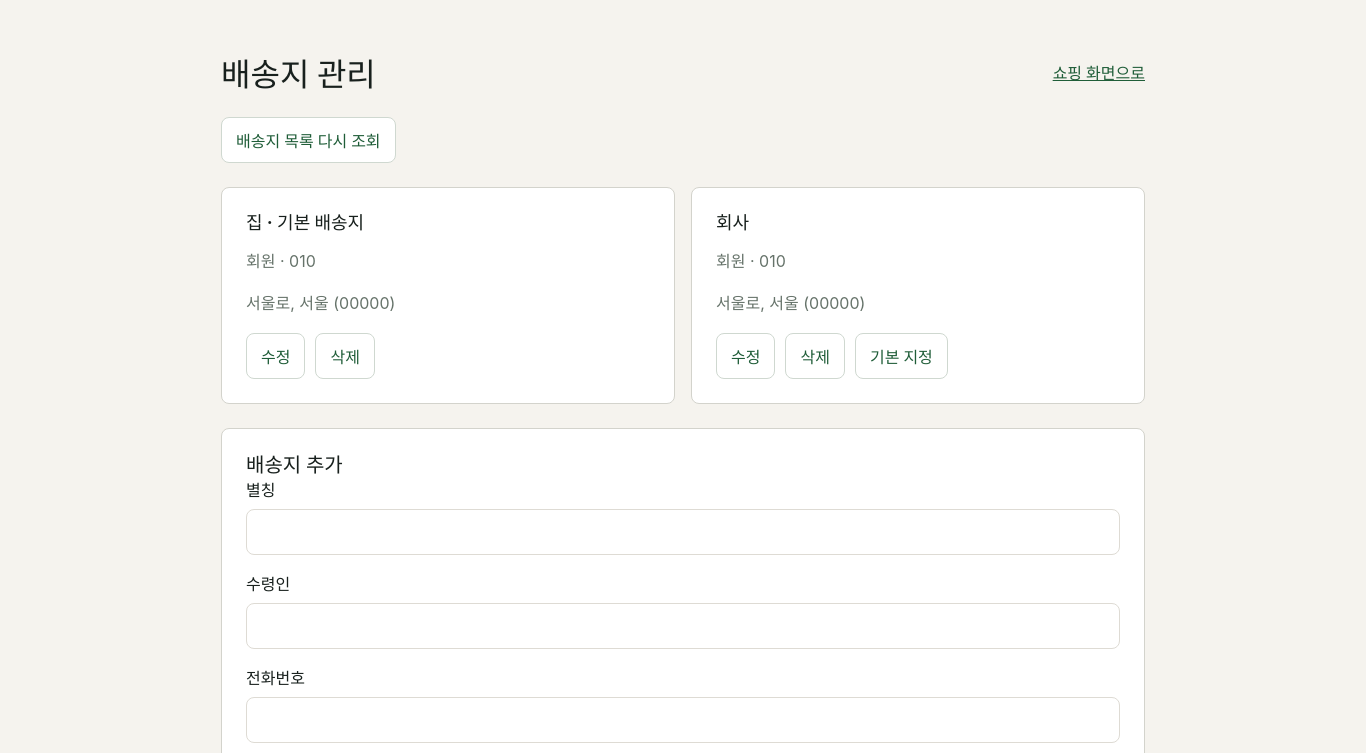
Scenario: clears a draft and explains the reset after setting another default address
Expected: the heading "집 · 기본 배송지" is shown, left=246, top=212, right=364, bottom=233
In the field labelled "별칭": coordinates (683, 532) left=246, top=509, right=1120, bottom=555, type "회사"
In the field labelled "수령인": coordinates (683, 626) left=246, top=603, right=1120, bottom=649, type "새 수령인"
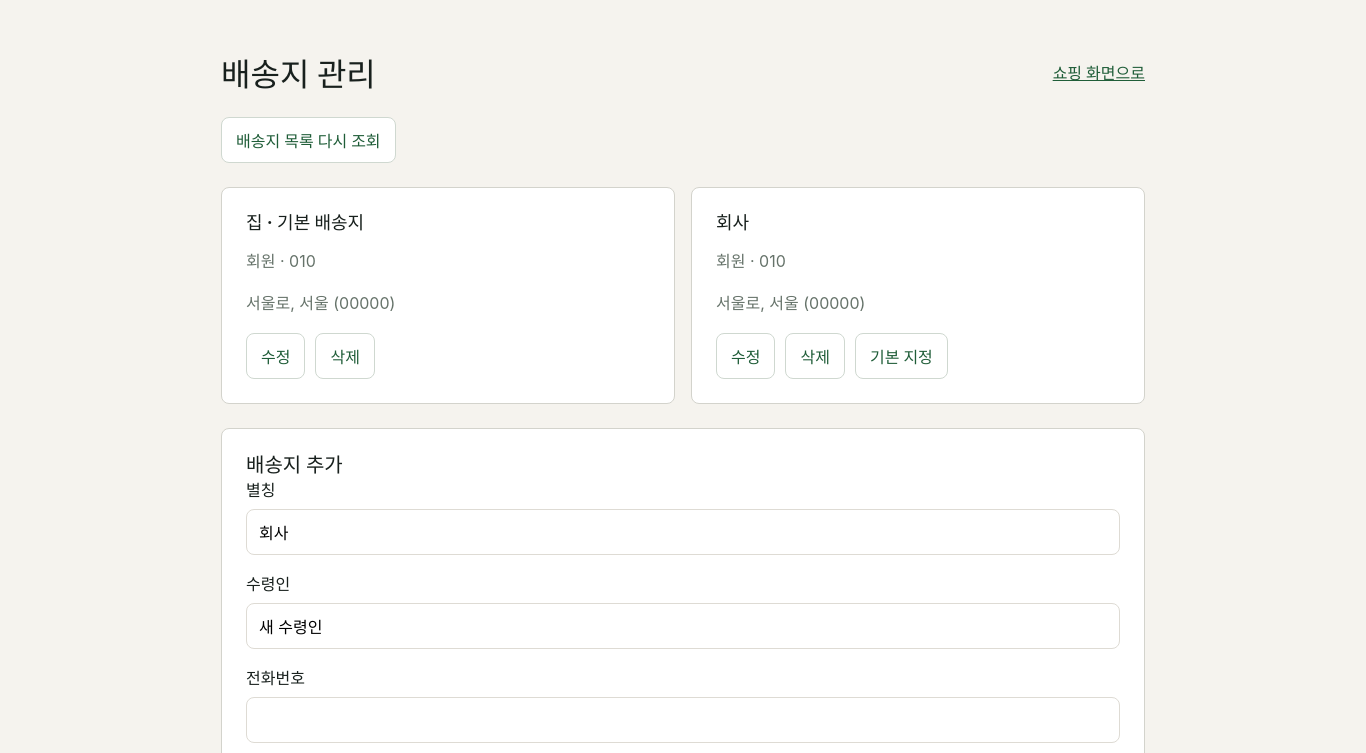
In the field labelled "전화번호": coordinates (683, 720) left=246, top=697, right=1120, bottom=743, type "020"
(page scrolled)
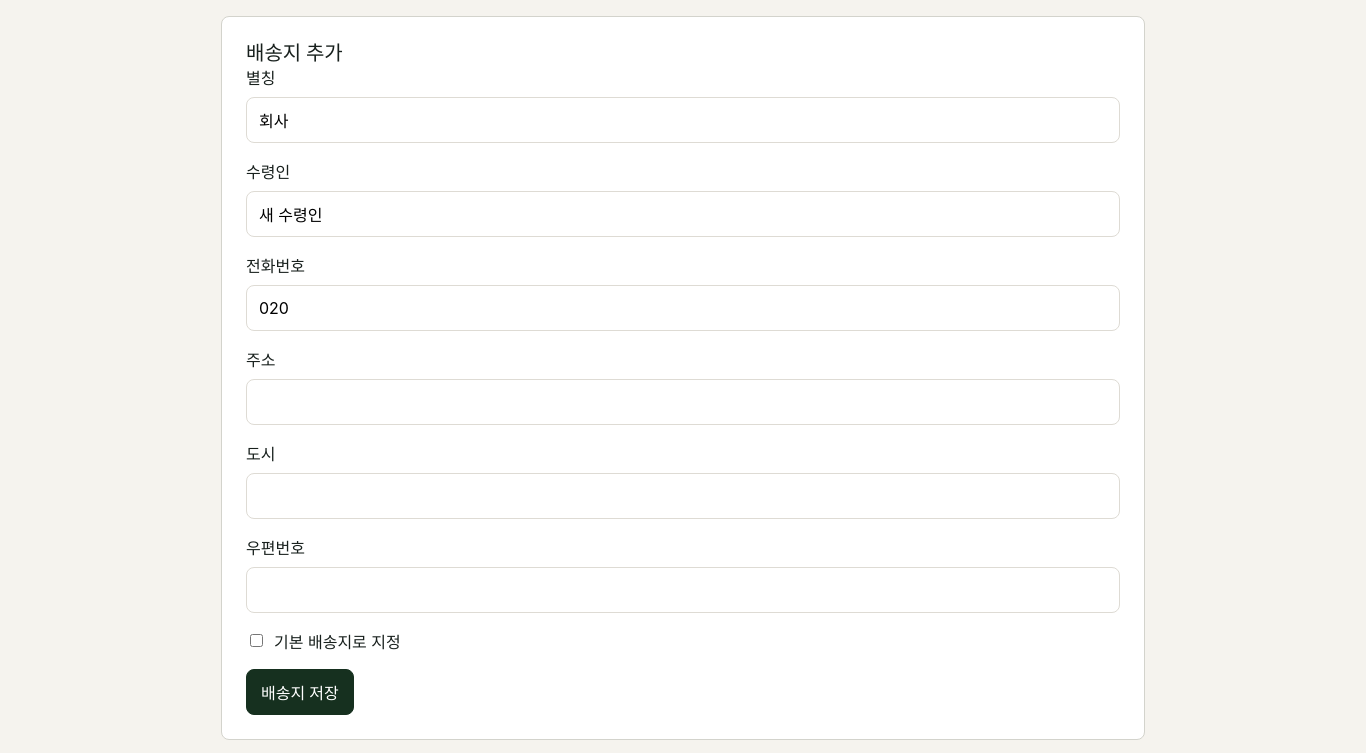
In the field labelled "주소": coordinates (683, 402) left=246, top=379, right=1120, bottom=425, type "새 주소"
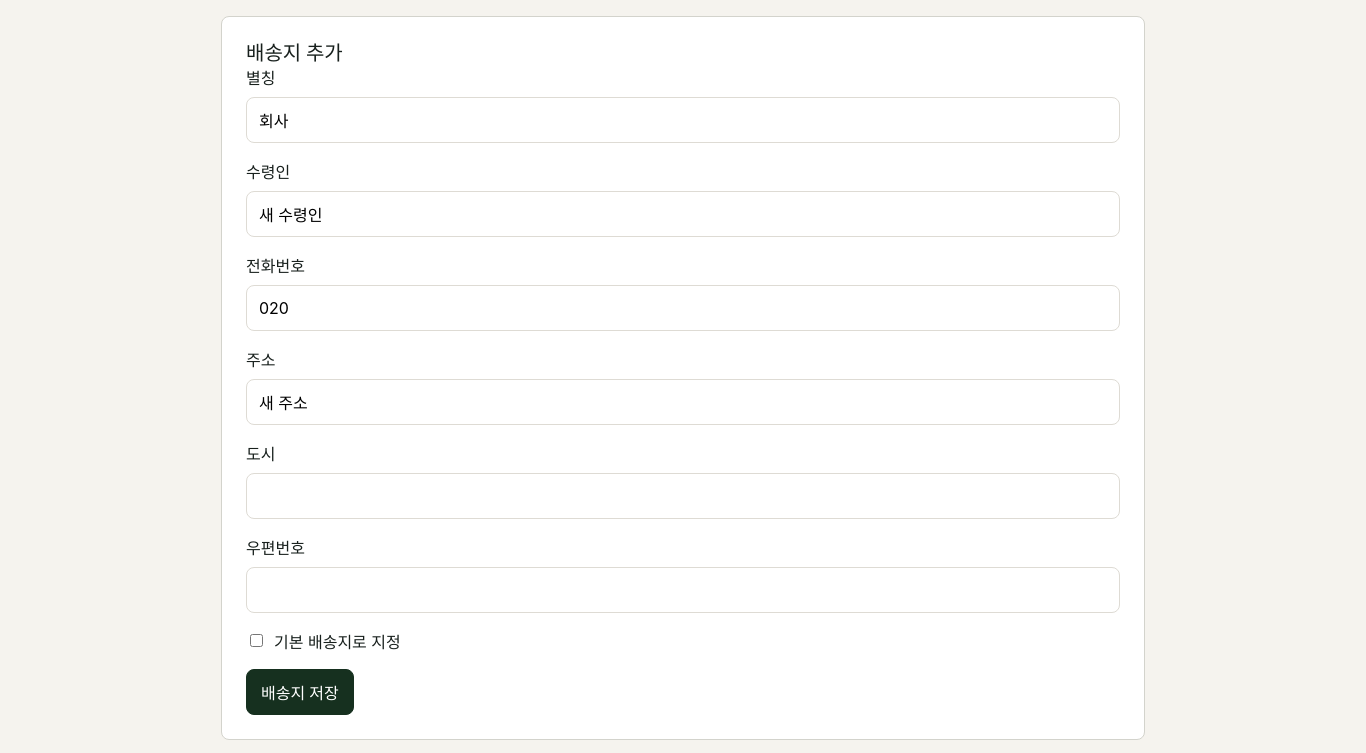
In the field labelled "도시": coordinates (683, 496) left=246, top=473, right=1120, bottom=519, type "부산"
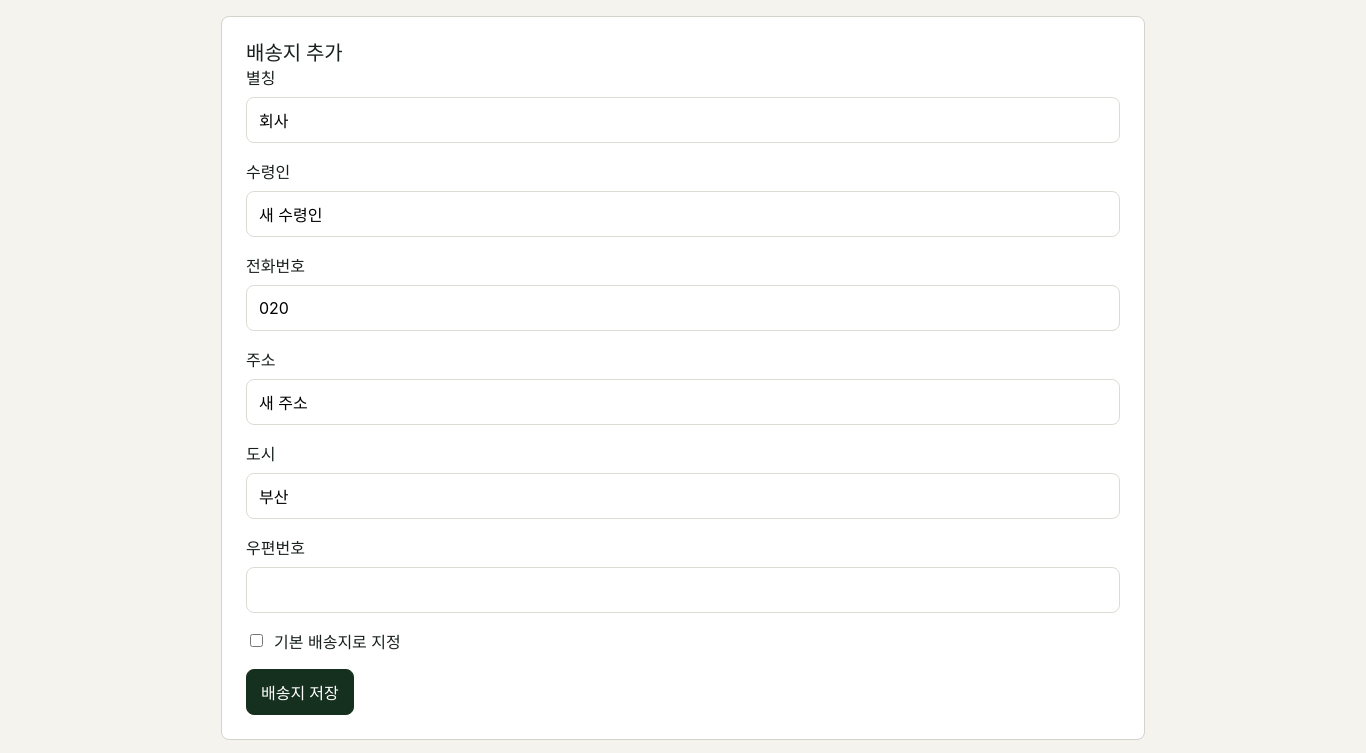
In the field labelled "우편번호": coordinates (683, 590) left=246, top=567, right=1120, bottom=613, type "99999"
(page scrolled)
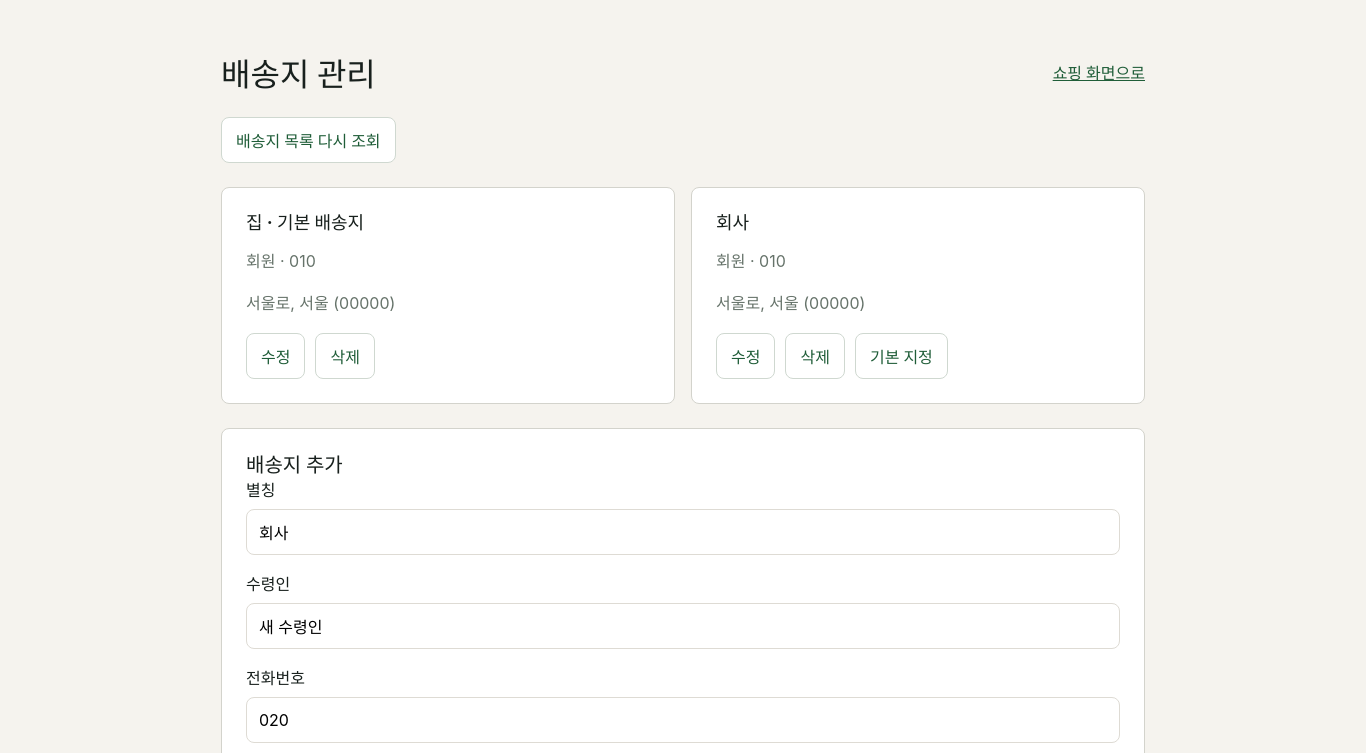
Click the button with aria-label "회사 기본 지정": coordinates (901, 356) left=855, top=333, right=948, bottom=379
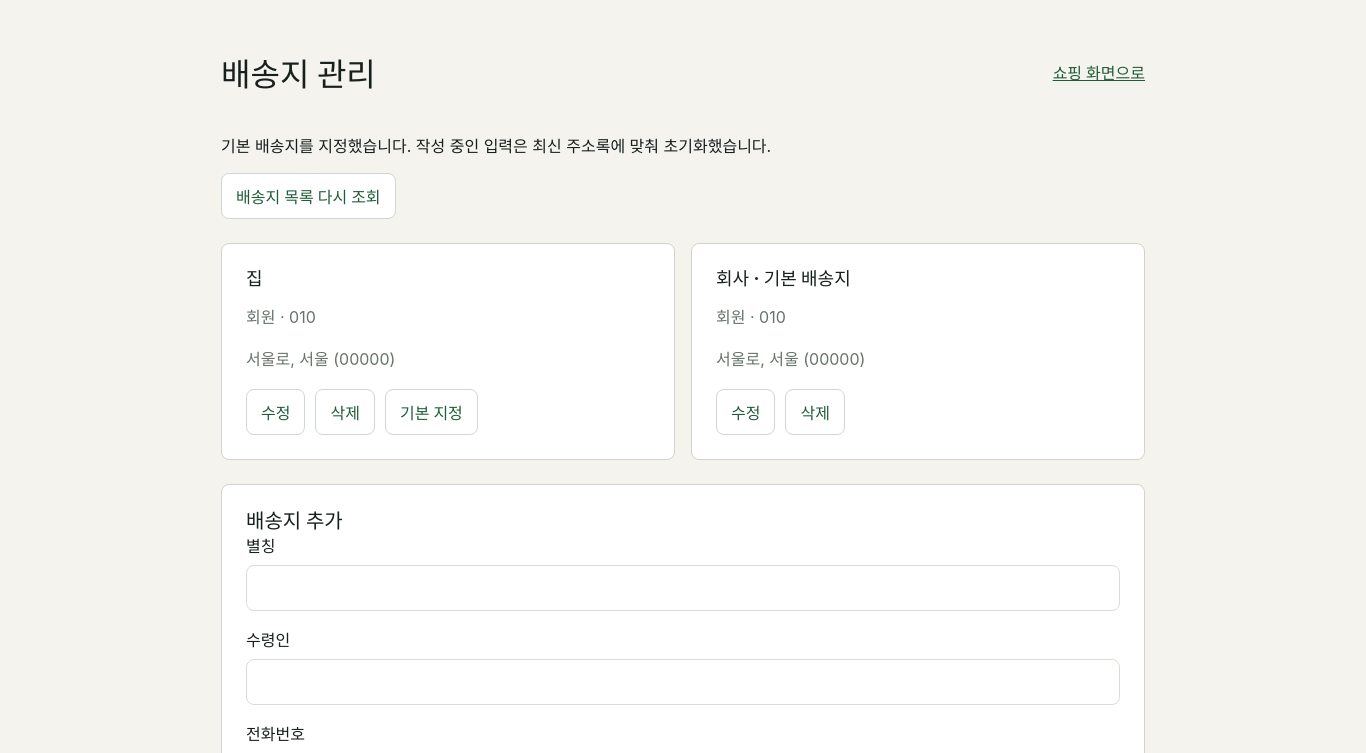
Result: the text "기본 배송지를 지정했습니다. 작성 중인 입력은 최신 주소록에 맞춰 초기화했습니다." is shown at left=221, top=136, right=771, bottom=156
Result: the field labelled "별칭" is empty at left=246, top=565, right=1120, bottom=611
